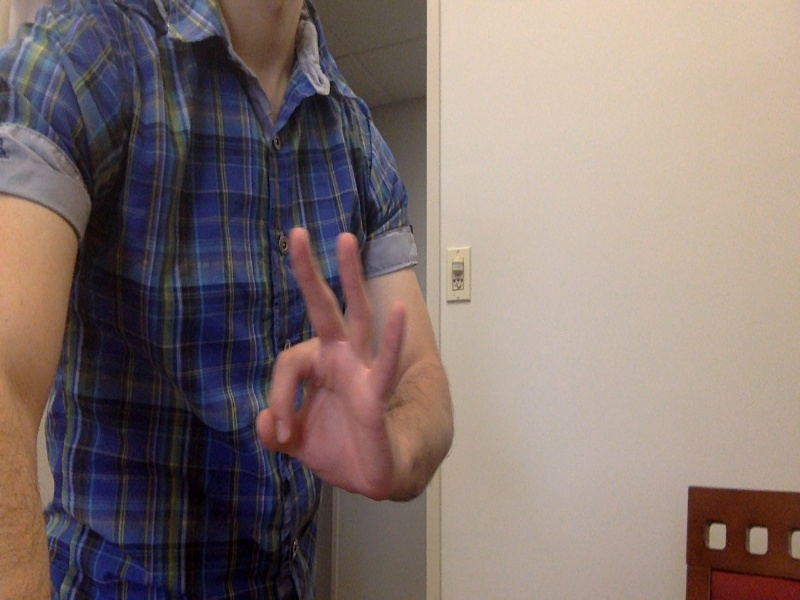3-hand: (257, 230, 407, 508)
